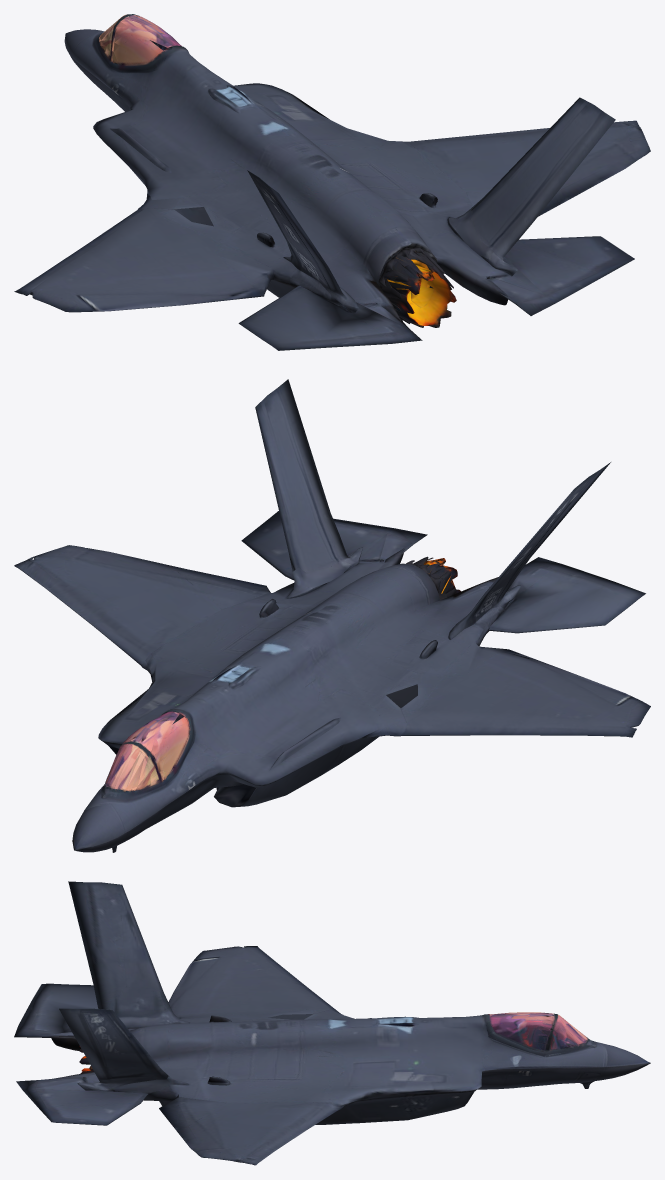
3 renders of one model, top to bottom at view 1: azimuth 30°, elevation 25°; view 2: azimuth 150°, elevation 25°; view 3: azimuth 270°, elevation 25°, orthographic. The views are drawn at different scales.
Visible parts, largest first — view 1: Airframe; view 2: Airframe; view 3: Airframe.
Boxes of the visible parts, x1,y1,x2,y2 form: Airframe: (14, 14, 650, 350); Airframe: (14, 379, 650, 852); Airframe: (14, 881, 650, 1165).
Size of the model in its own units: 7.41 by 2.54 by 8.49.
Materials: 1 (1 with a texture image).
